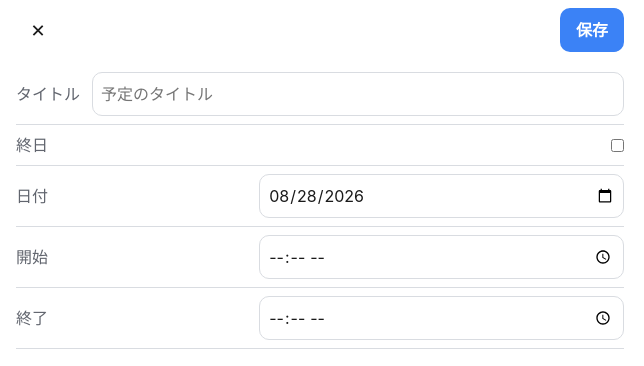
Test: EventForm（新規） › 終了日が開始日より前だとエラー
The width and height of the screenshot is (644, 366).
Type "旅行" into the field labelled "タイトル" at (358, 94), box [92,72,624,116]
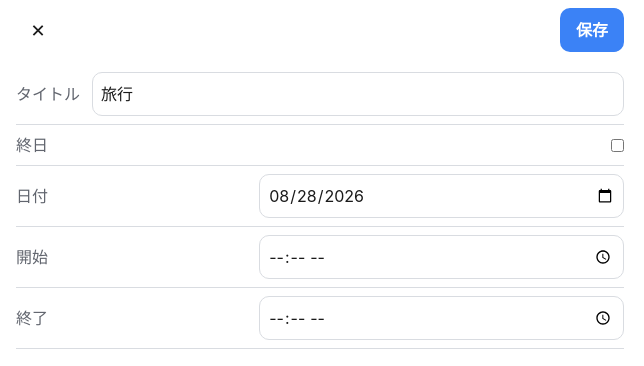
Click the checkbox labelled "終日" at (618, 145), box [611,138,624,152]
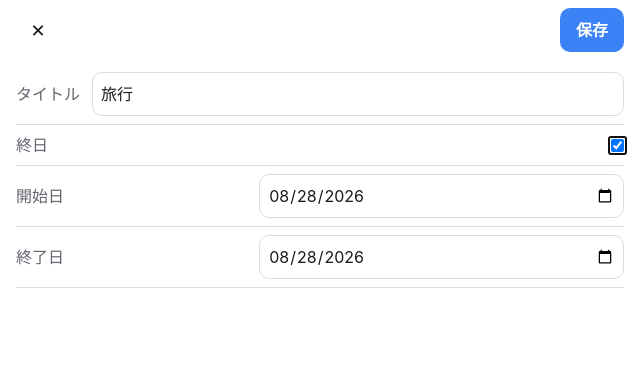
Type "2026-09-14" into the date field labelled "開始日" at (442, 196), box [259,174,624,218]
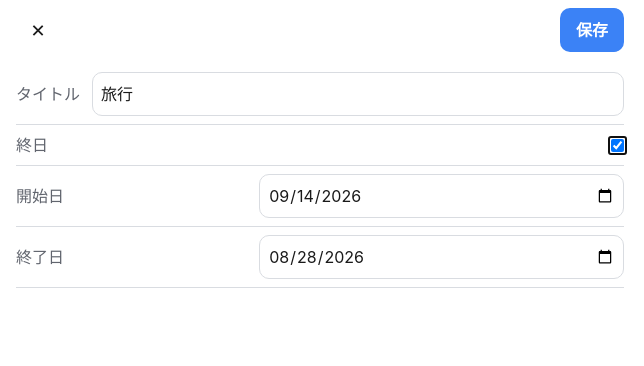
Type "2026-09-12" into the date field labelled "終了日" at (442, 257), box [259,235,624,279]
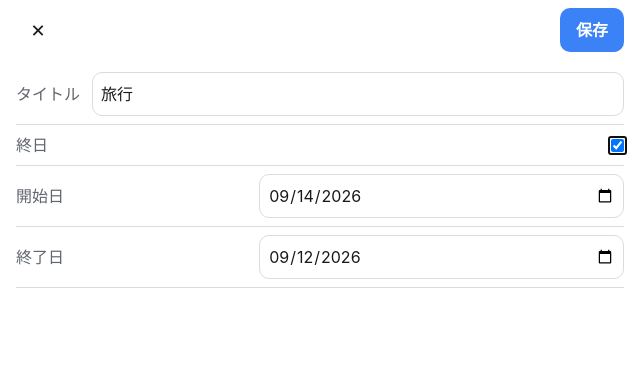
Click the button "保存" at (592, 30), box [560,8,624,52]
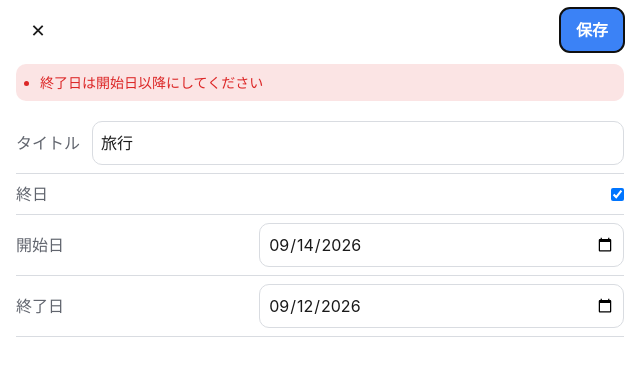
expect the list item "終了日は開始日以降にしてください" is shown: met, box [40,74,263,91]
